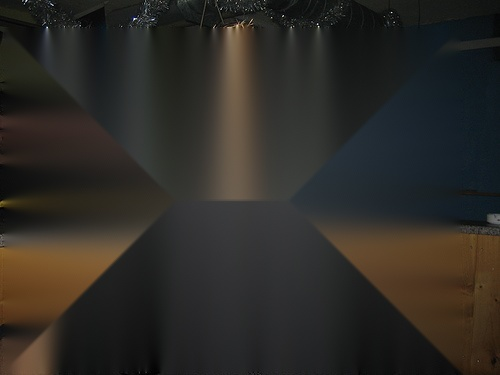bottle: (41, 114, 73, 181), (324, 148, 352, 206), (87, 100, 109, 165), (426, 157, 443, 195)
